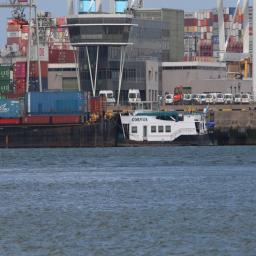tugboat: (99, 100, 222, 152)
